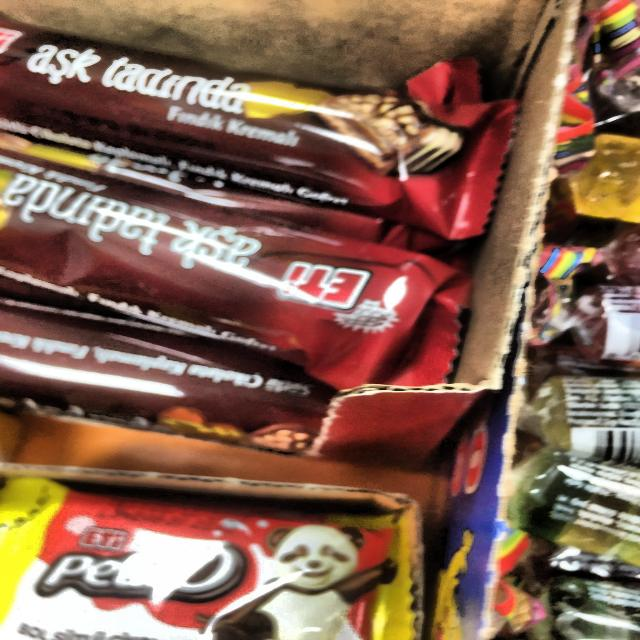Plastic: (11, 25, 517, 261), (2, 147, 479, 395), (5, 477, 410, 639)
